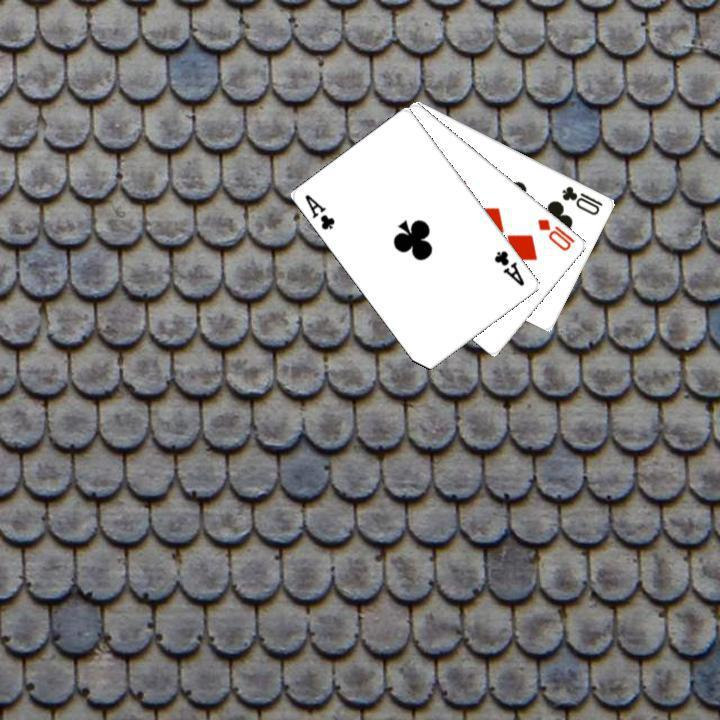10: (533, 214, 577, 253), (558, 181, 605, 217)
A: (490, 246, 527, 288), (301, 190, 337, 232)
